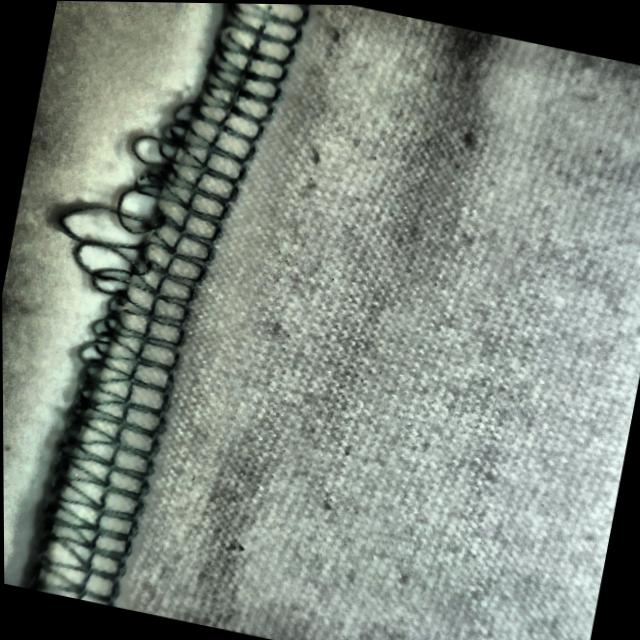Stitch: (25, 76, 262, 405)
